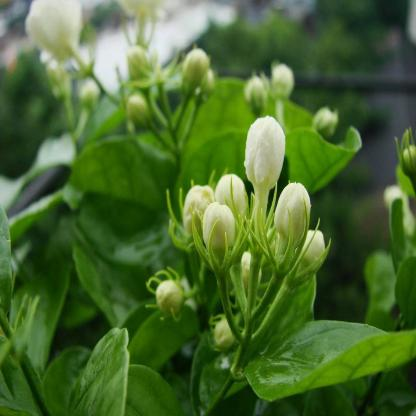Melati: (166, 175, 365, 301), (48, 16, 209, 113), (219, 109, 298, 186), (244, 58, 304, 107)
